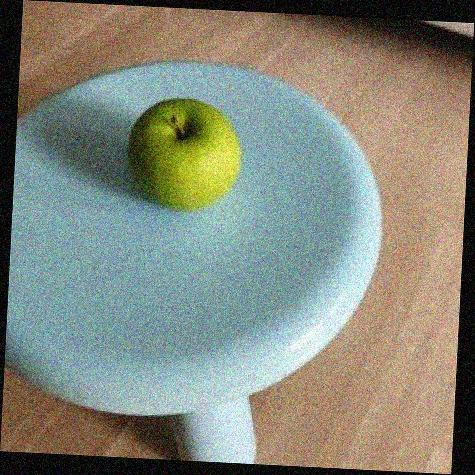green apple: (126, 98, 246, 214)
